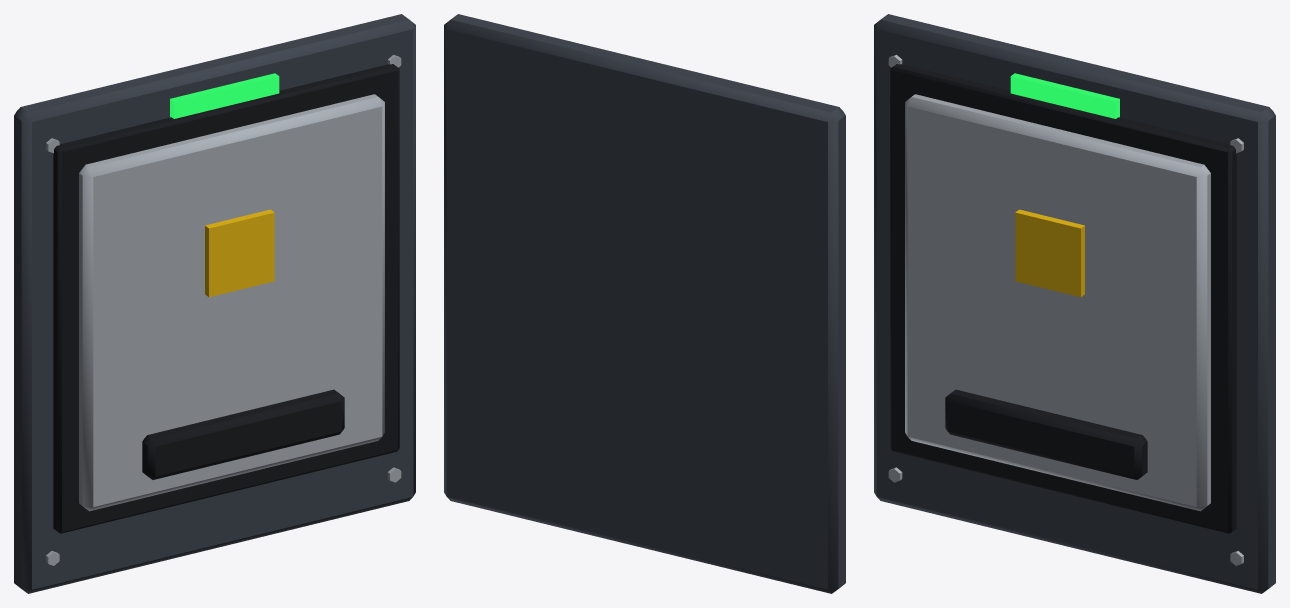
File: bin_waste_chute_door.glb
3 renders of one model, left to right at view 1: azimuth 30°, elevation 25°; view 2: azimuth 150°, elevation 25°; view 3: azimuth 330°, elevation 25°, orthographic.
Parts seen in each view (by area): view 1: flap, body; view 2: body; view 3: flap, body.
Boxes of the visible parts, x1,y1,x2,y2 form: flap: (79,94,384,511); body: (14,14,415,593); body: (444,14,845,593); flap: (905,94,1210,511); body: (874,14,1275,593).
Bounding box in the file's own units: 0.6 × 0.7 × 0.11.
